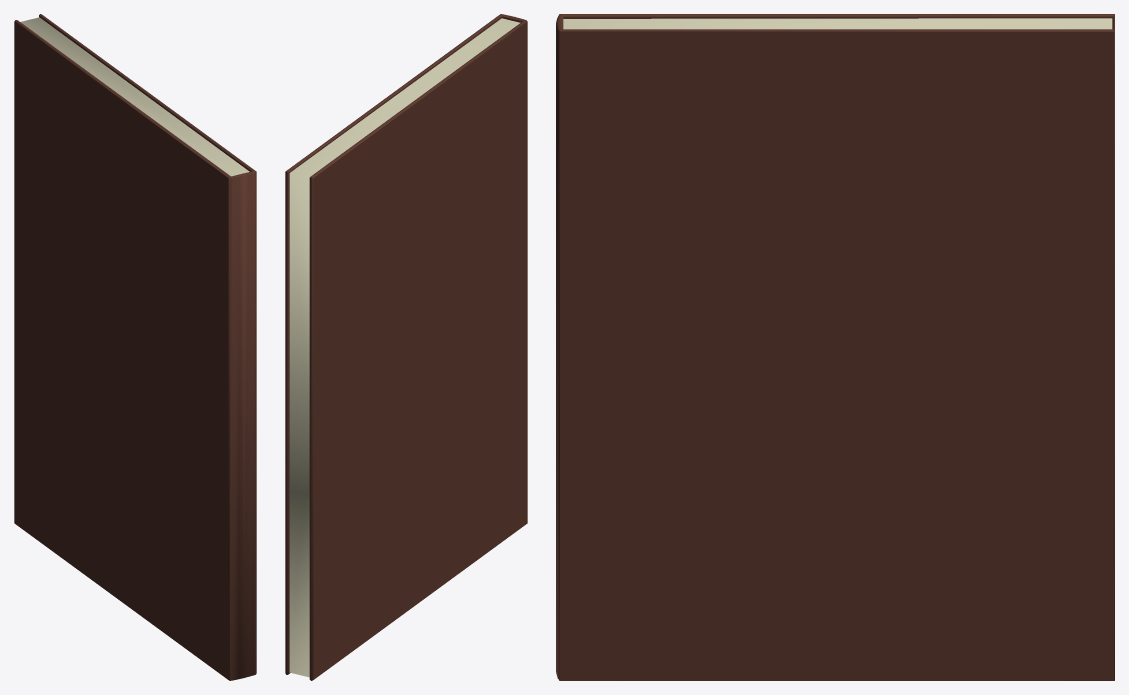
Rendered from Book.fbx.
3 views of the same model, side by side, from view 1: azimuth 30°, elevation 25°; view 2: azimuth 150°, elevation 25°; view 3: azimuth 270°, elevation 25° (orthographic). The views are drawn at different scales.
Visible parts, largest first — view 1: book, papers; view 2: book, papers; view 3: book, papers.
Part boxes in pixels (box(x1,y1,x2,y2)): book: box(14, 14, 256, 680); papers: box(20, 17, 249, 176); book: box(285, 14, 527, 680); papers: box(289, 18, 520, 677); book: box(556, 14, 1114, 680); papers: box(563, 18, 1112, 29).
Bounding box in the file's own units: 2.42 × 41.8 × 32.52.
